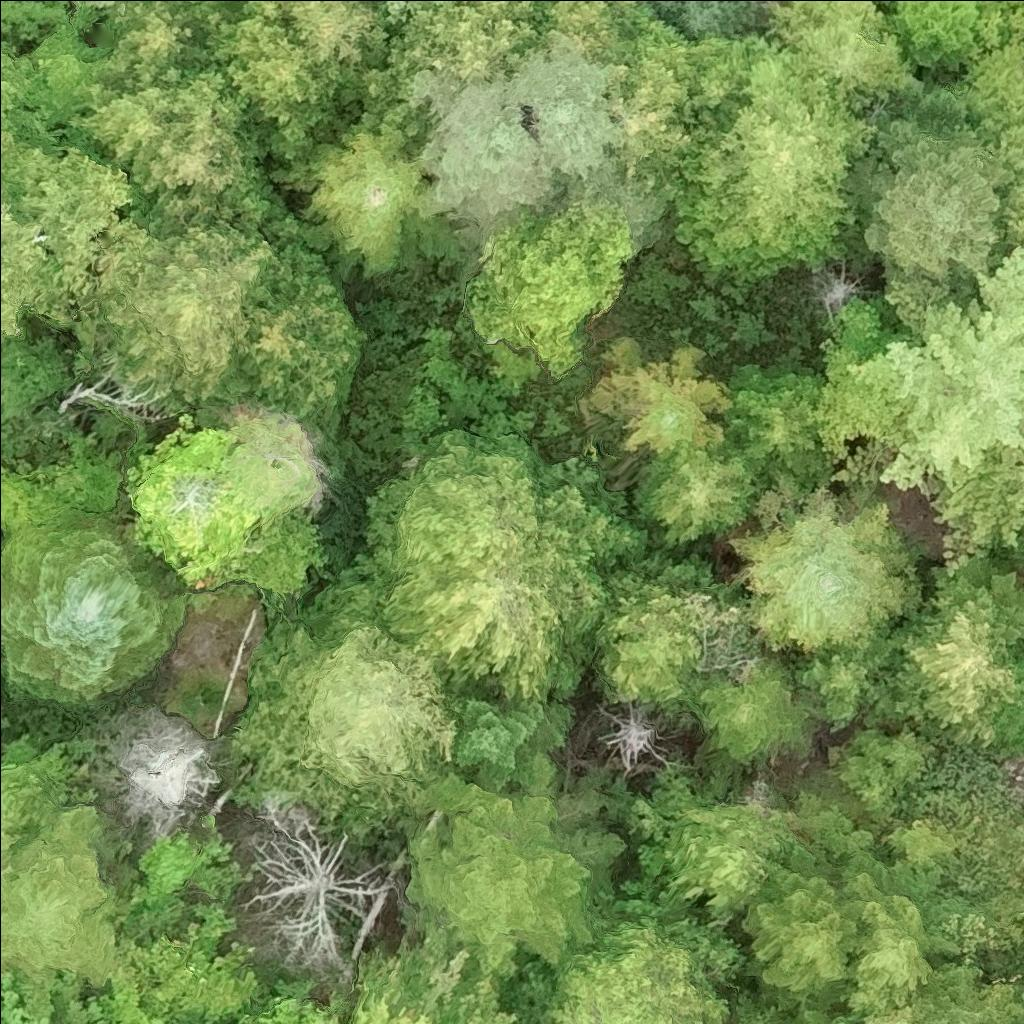crown: (378, 455, 648, 705), (231, 561, 459, 842), (401, 749, 627, 996), (671, 35, 877, 280), (88, 183, 280, 405), (0, 509, 188, 708), (878, 243, 1023, 493), (729, 480, 922, 655), (0, 758, 130, 1016), (466, 181, 633, 377), (409, 65, 566, 269), (237, 789, 407, 977), (843, 116, 1023, 292), (0, 126, 151, 328), (240, 240, 367, 446), (127, 413, 268, 582), (300, 126, 450, 279), (607, 16, 736, 188), (392, 431, 542, 568), (504, 28, 629, 186), (891, 602, 1023, 750), (575, 335, 732, 453), (89, 698, 220, 839), (548, 922, 728, 1023), (361, 0, 542, 100), (739, 865, 869, 995), (764, 0, 914, 109), (717, 363, 838, 498), (839, 872, 956, 1011), (593, 564, 706, 703), (660, 798, 788, 920), (814, 293, 908, 457), (203, 11, 333, 125), (631, 440, 767, 547), (67, 59, 188, 174), (448, 689, 575, 792), (351, 920, 471, 1021), (693, 666, 813, 762), (244, 0, 394, 73), (128, 114, 249, 198), (106, 921, 205, 1020), (181, 901, 260, 1023), (582, 692, 686, 784), (933, 444, 1023, 550), (121, 830, 215, 923), (232, 506, 331, 594), (935, 555, 1023, 651), (534, 0, 657, 62), (0, 200, 47, 349), (103, 0, 195, 76), (890, 0, 989, 69), (169, 59, 248, 130), (346, 973, 443, 1023), (442, 972, 524, 1023), (82, 975, 167, 1023), (235, 994, 346, 1023), (0, 46, 38, 127), (0, 967, 53, 1023), (908, 983, 954, 1023), (788, 1001, 855, 1023), (862, 999, 923, 1023), (998, 187, 1023, 244), (56, 997, 88, 1023), (67, 0, 118, 10), (183, 0, 221, 5), (459, 0, 470, 1)
